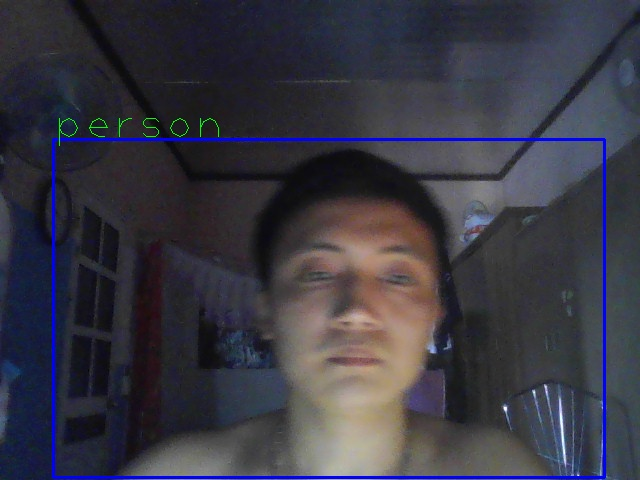person: (53, 139, 605, 478)
